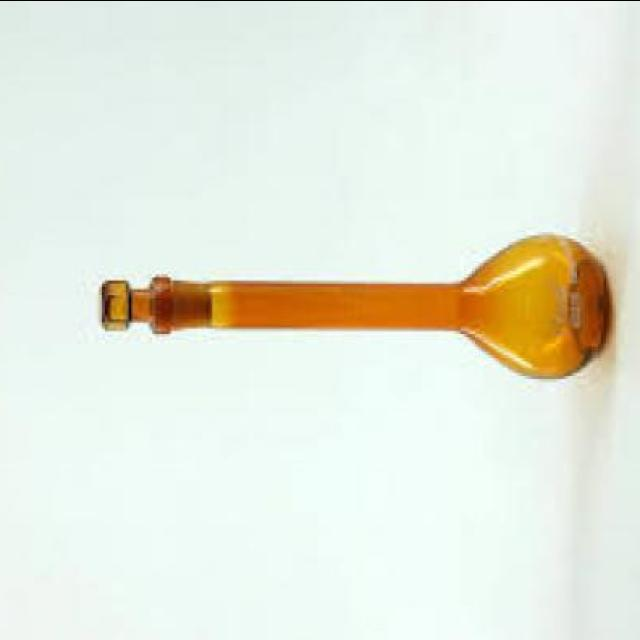kaca: (98, 238, 608, 384)
